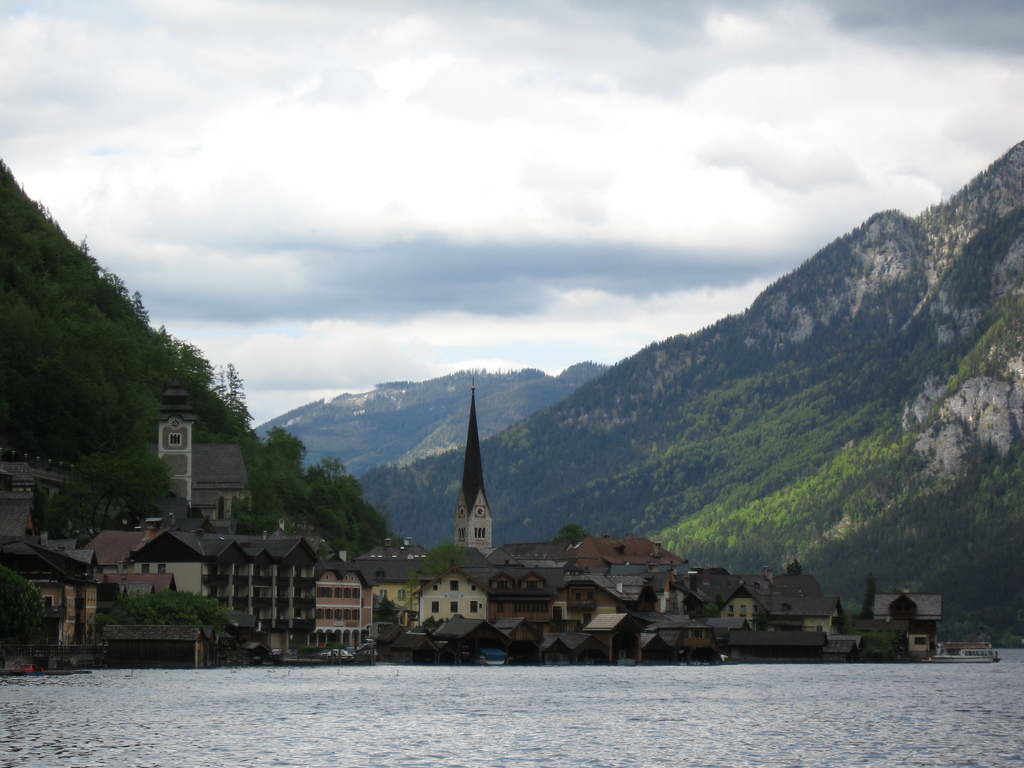Tree: (0, 156, 253, 468), (800, 430, 1023, 638), (645, 431, 915, 583), (476, 430, 773, 547), (232, 426, 401, 563), (39, 453, 172, 550), (357, 446, 467, 554), (83, 593, 240, 661), (0, 562, 49, 661), (409, 542, 475, 597), (227, 493, 279, 536), (551, 521, 589, 556)
